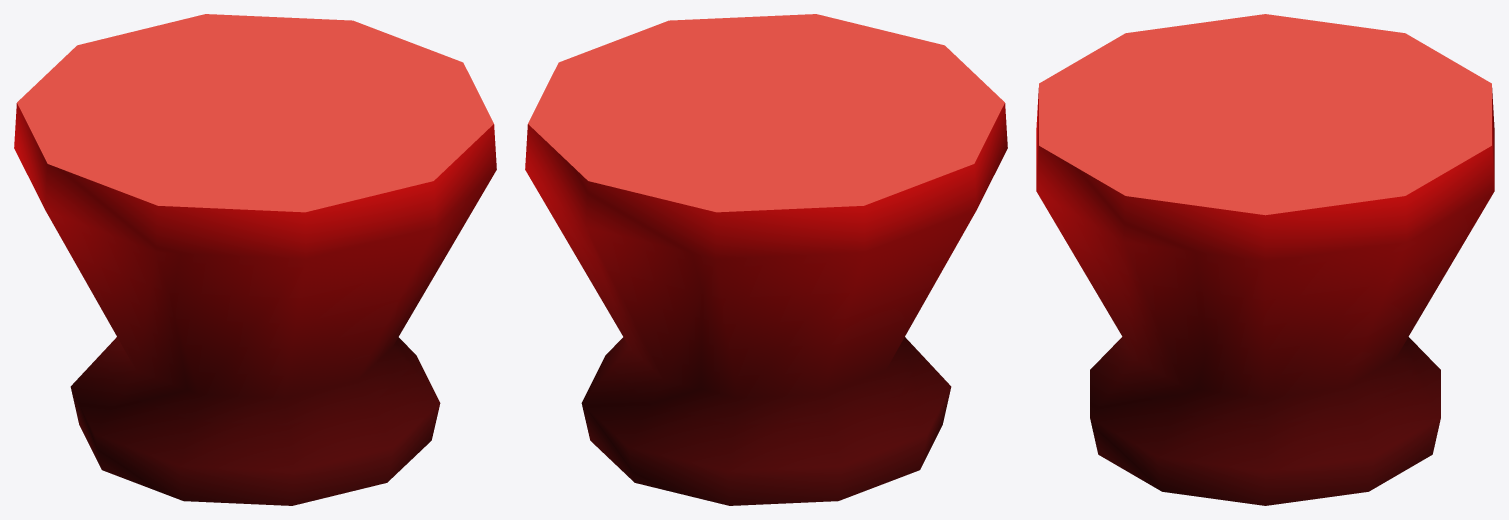
Rendered from Potion_E_M_Liquid.fbx.
3 views of the same model, side by side, from view 1: azimuth 30°, elevation 25°; view 2: azimuth 150°, elevation 25°; view 3: azimuth 270°, elevation 25° (orthographic).
Parts seen in each view (by area): view 1: Potion_E_M_Liquid; view 2: Potion_E_M_Liquid; view 3: Potion_E_M_Liquid.
Part boxes in pixels (x1,y1,x2,y2): Potion_E_M_Liquid: (14,14,496,505); Potion_E_M_Liquid: (525,14,1007,505); Potion_E_M_Liquid: (1036,14,1494,505).
Size of the model in its own units: 50.39 by 36.6 by 47.92.
Materials: 1 (1 with a texture image).
